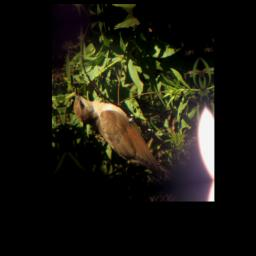Cuckoo: (71, 74, 179, 197)
